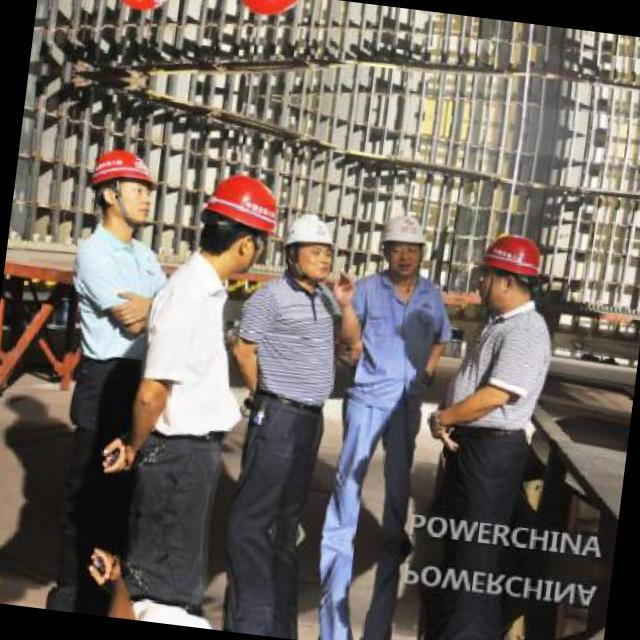helmet: (192, 164, 280, 278), (467, 224, 551, 316), (86, 144, 166, 232), (278, 202, 348, 280), (373, 204, 433, 277), (222, 0, 302, 23), (111, 0, 187, 16)
